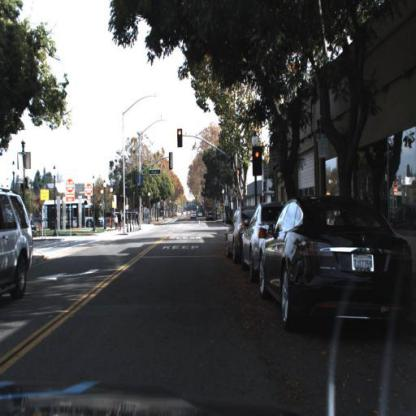car: (259, 194, 414, 334), (1, 190, 35, 306), (241, 196, 283, 289), (225, 204, 254, 264)
pedestrian: (116, 211, 123, 233)
trafficLight-Red: (252, 146, 266, 181), (176, 129, 188, 151), (254, 147, 262, 175)
truck: (43, 197, 105, 233)
